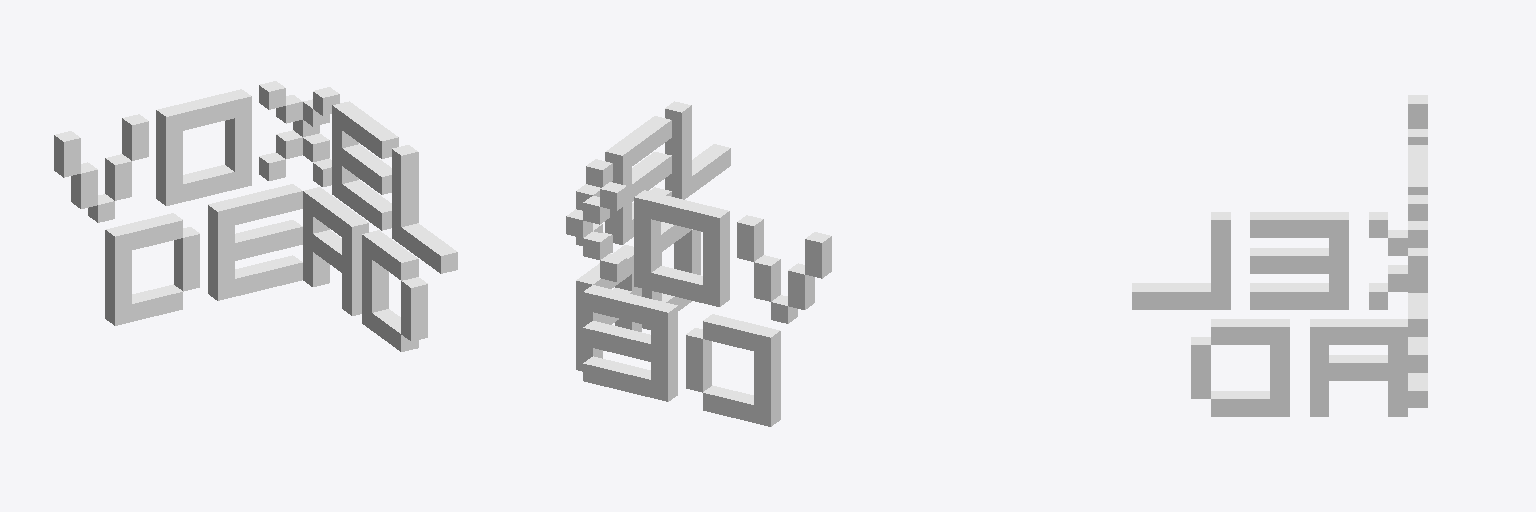
Rendered from Title_1.obj.
3 renders of one model, left to right at view 1: azimuth 30°, elevation 25°; view 2: azimuth 150°, elevation 25°; view 3: azimuth 270°, elevation 25°, orthographic.
Size of the model in its own units: 30 by 22 by 30.